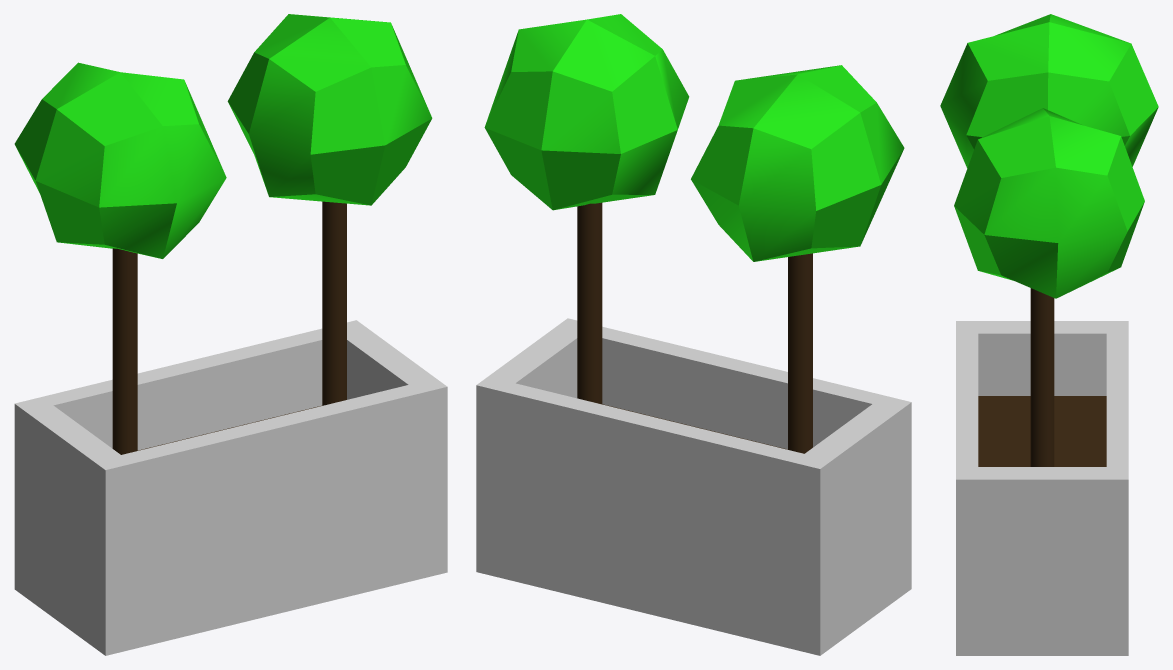
The model's file is SmallTree_01.FBX.
3 views of the same model, side by side, from view 1: azimuth 30°, elevation 25°; view 2: azimuth 150°, elevation 25°; view 3: azimuth 270°, elevation 25° (orthographic). The views are drawn at different scales.
Parts seen in each view (by area): view 1: SmallTree_01; view 2: SmallTree_01; view 3: SmallTree_01.
Part boxes in pixels (box(x1,y1,x2,y2)): SmallTree_01: box(14, 14, 447, 655); SmallTree_01: box(476, 14, 911, 655); SmallTree_01: box(940, 14, 1158, 655).
Bounding box in the file's own units: 3.73 × 5.03 × 1.96.
